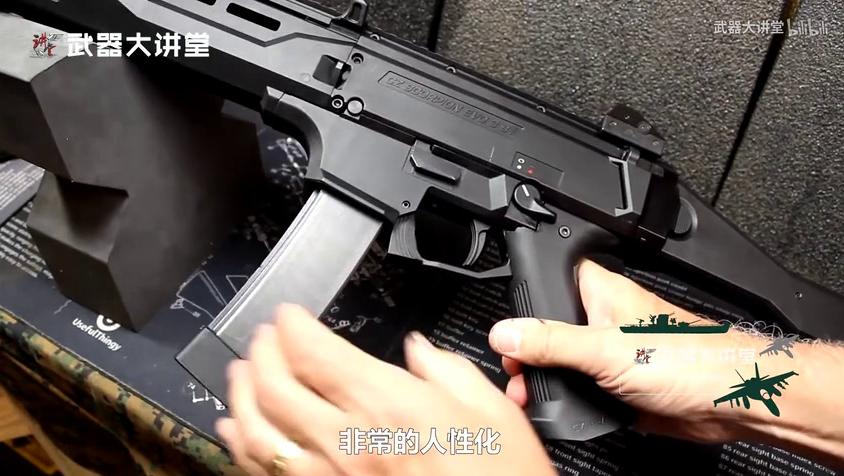gun: (1, 0, 844, 476)
